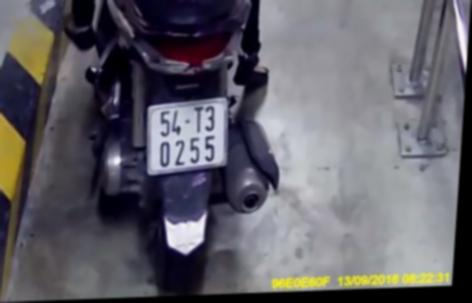License_Plate: (139, 100, 243, 173)
